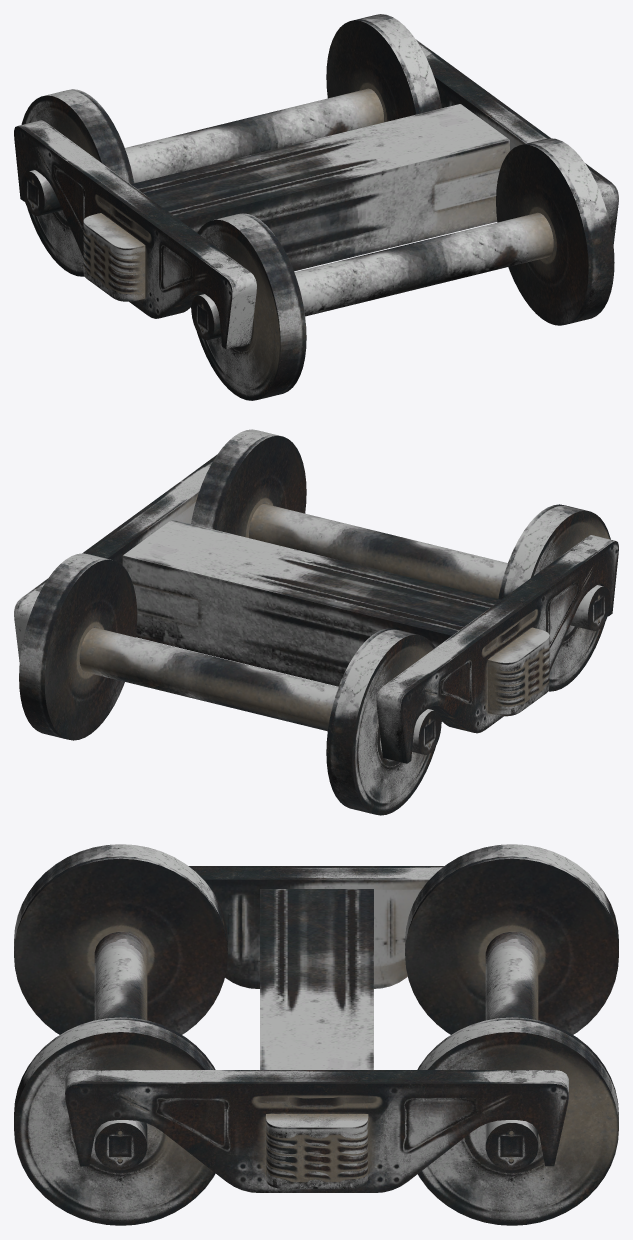
File: SM_TrainWheels.FBX
3 renders of one model, top to bottom at view 1: azimuth 30°, elevation 25°; view 2: azimuth 150°, elevation 25°; view 3: azimuth 270°, elevation 25°, orthographic. The views are drawn at different scales.
Visible parts, largest first — view 1: SM_TrainWheels; view 2: SM_TrainWheels; view 3: SM_TrainWheels.
Part boxes in pixels (x1,y1,x2,y2): SM_TrainWheels: (14, 14, 618, 400); SM_TrainWheels: (14, 429, 618, 815); SM_TrainWheels: (14, 844, 618, 1225).
Size of the model in its own units: 238 by 249 by 88.12.
